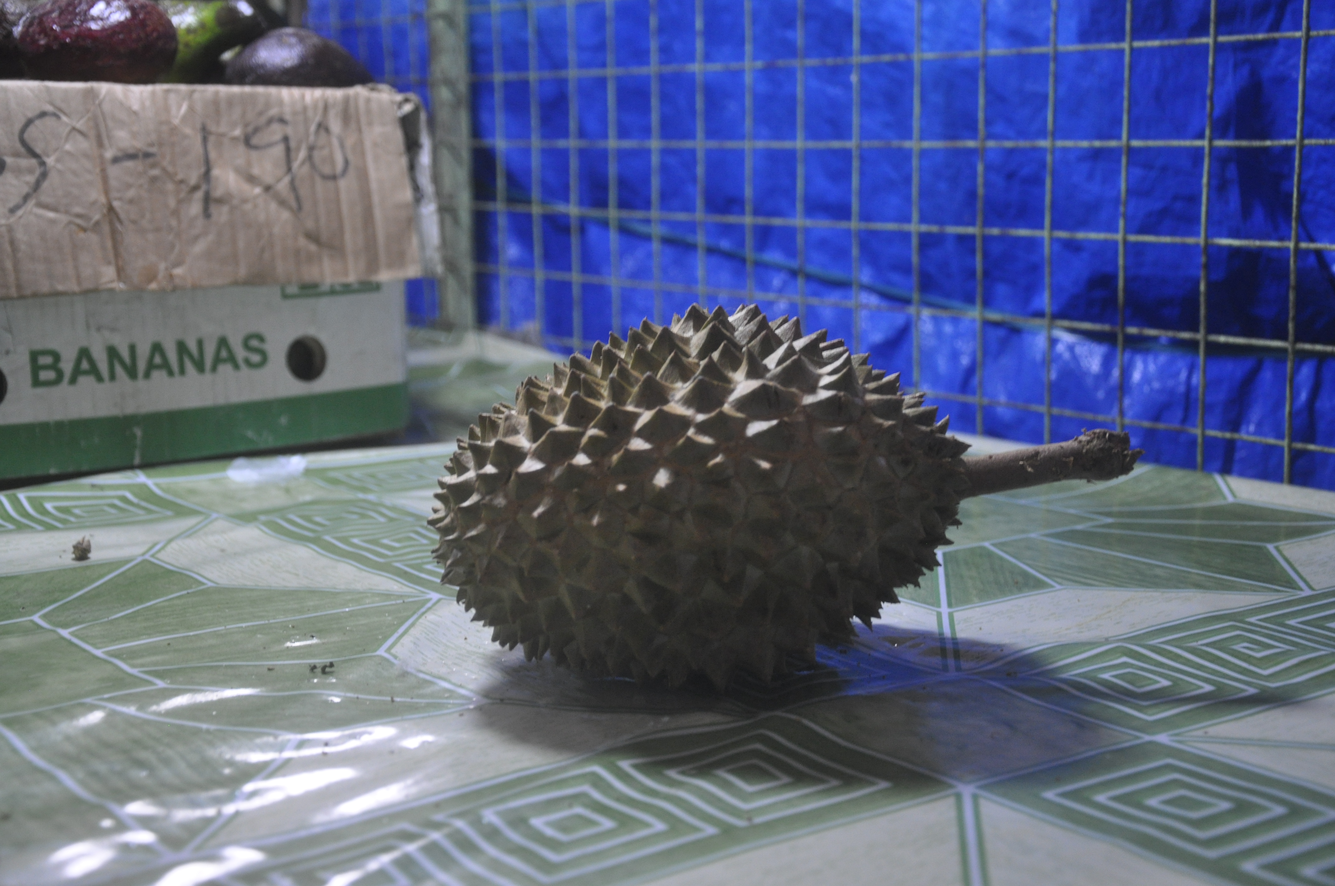mature: (429, 305, 1142, 688)
